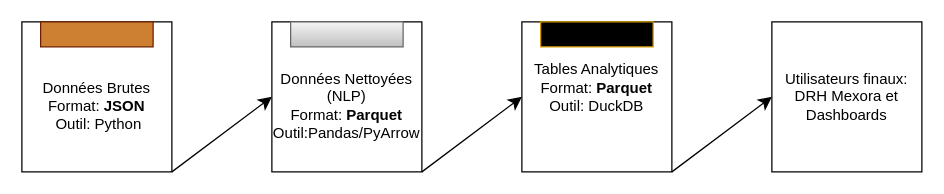
The diagram is 944 pixels wide and 194 high, and some of its shapes have lost their labels. Here are the shapes that lost their labels. From the top down, the centre of each, then its label:
the point at 96,34: Bronze Zone
the point at 346,34: Silver Zone
